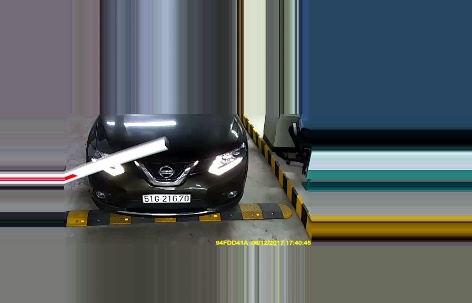plate: (138, 190, 190, 203)
